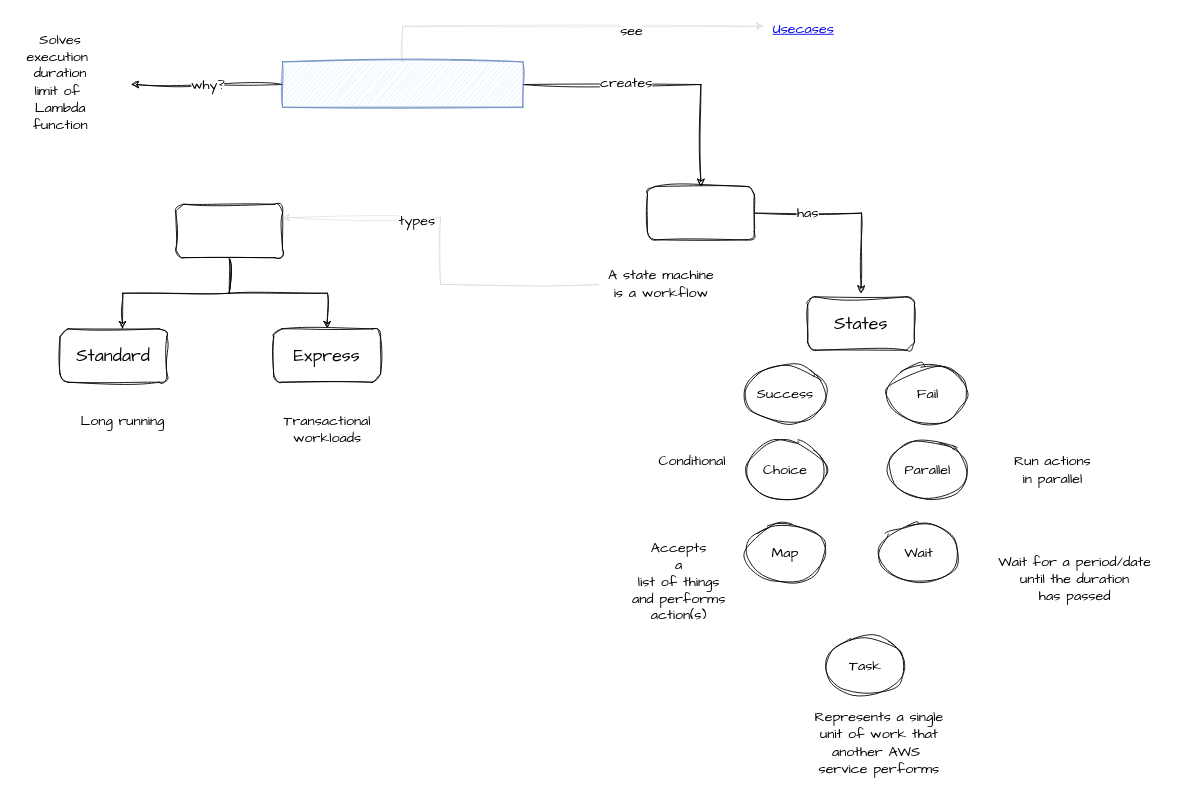
Image size: 1178x797. Some labels were removed from this diagram. The shapes that lost their labels are listed below. From the top down, each one's centre as x and y in pixels, then its label:
At point 402,84: "STEP FUNCTIONS".
At point 229,230: "Workflows".
At point 700,213: "State Machine".
